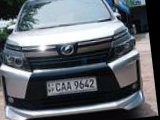car: (0, 0, 153, 120)
